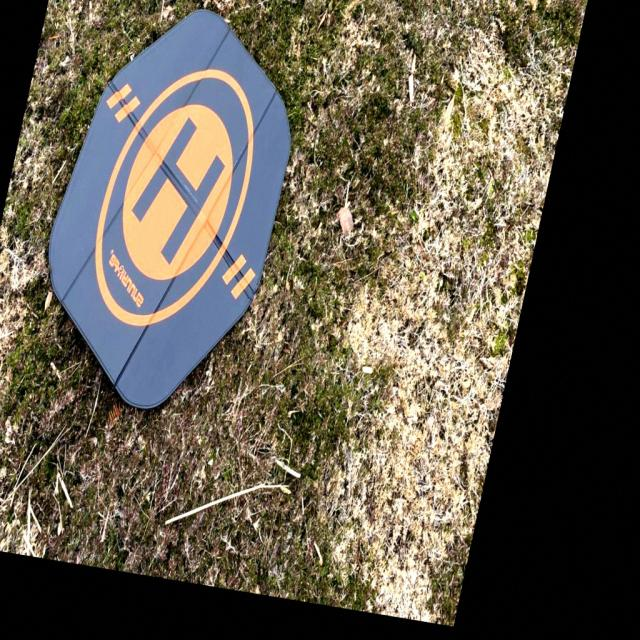helipad: (91, 63, 260, 330)
